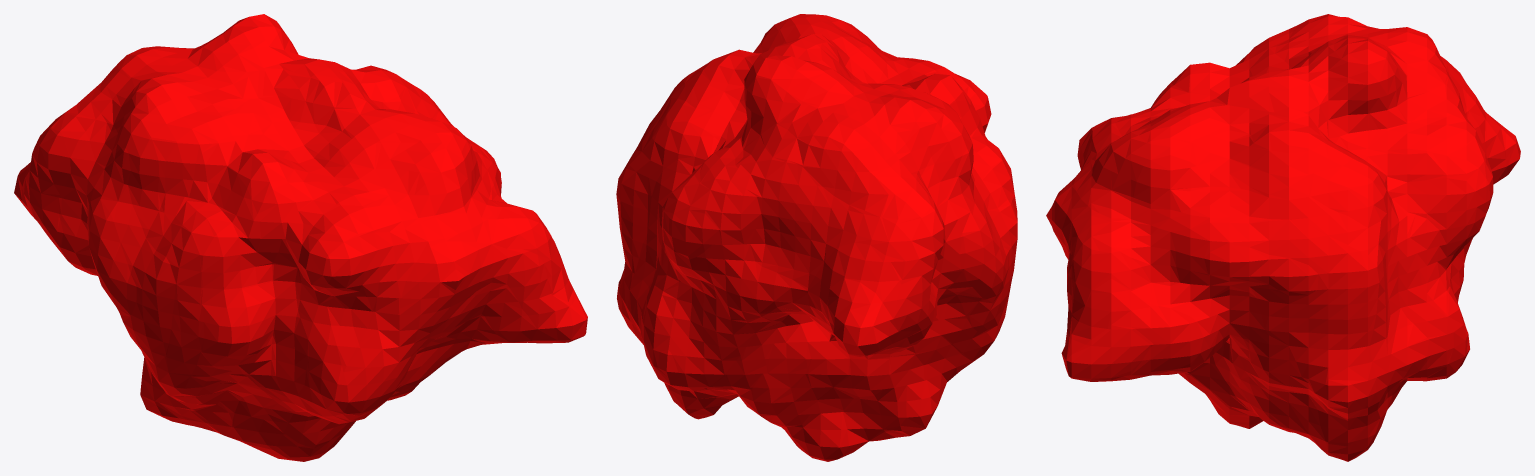
Rendered from yghU_coarse.dae.
3 renders of one model, left to right at view 1: azimuth 30°, elevation 25°; view 2: azimuth 150°, elevation 25°; view 3: azimuth 270°, elevation 25°, orthographic. The views are drawn at different scales.
Visible parts, largest first — view 1: yghU; view 2: yghU; view 3: yghU.
Part boxes in pixels (box(x1,y1,x2,y2)): yghU: box(14, 14, 587, 461); yghU: box(616, 14, 1017, 461); yghU: box(1046, 14, 1520, 461).
Bounding box in the file's own units: 63.09 × 63.61 × 70.62.
